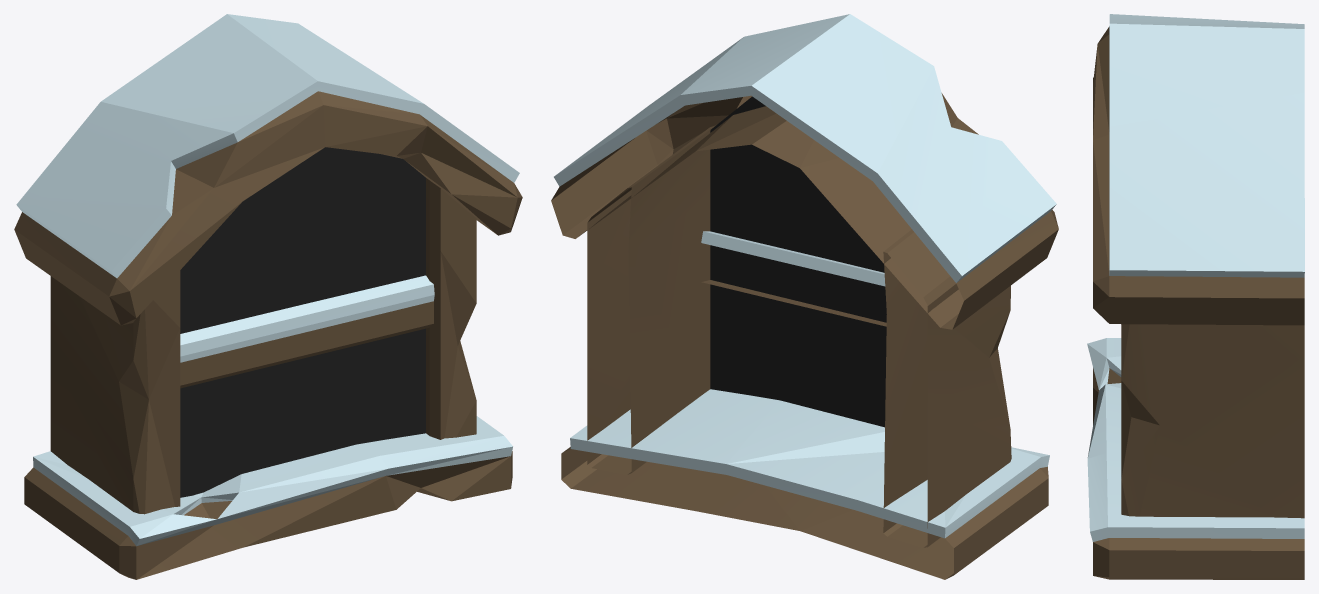
Rendered from Ventana01.glb.
3 views of the same model, side by side, from view 1: azimuth 30°, elevation 25°; view 2: azimuth 150°, elevation 25°; view 3: azimuth 270°, elevation 25° (orthographic). The views are drawn at different scales.
Parts seen in each view (by area): view 1: SM_Bld_Window_01_Snow; view 2: SM_Bld_Window_01_Snow; view 3: SM_Bld_Window_01_Snow.
Part boxes in pixels (x1,y1,x2,y2): SM_Bld_Window_01_Snow: [14, 14, 522, 579]; SM_Bld_Window_01_Snow: [551, 14, 1058, 579]; SM_Bld_Window_01_Snow: [1087, 14, 1304, 579].
Bounding box in the file's own units: 1.1 × 1.15 × 0.4897.
1 material, 1 textured.
